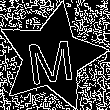M_N: (25, 29, 78, 85)
